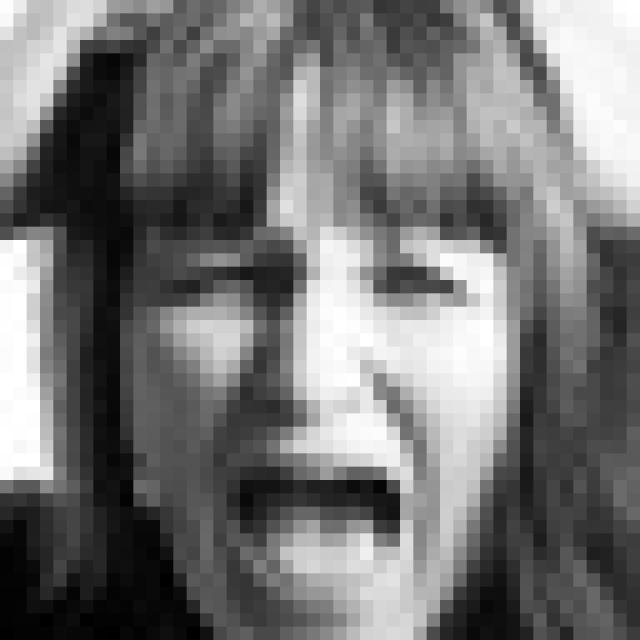angry: (162, 223, 489, 620)
